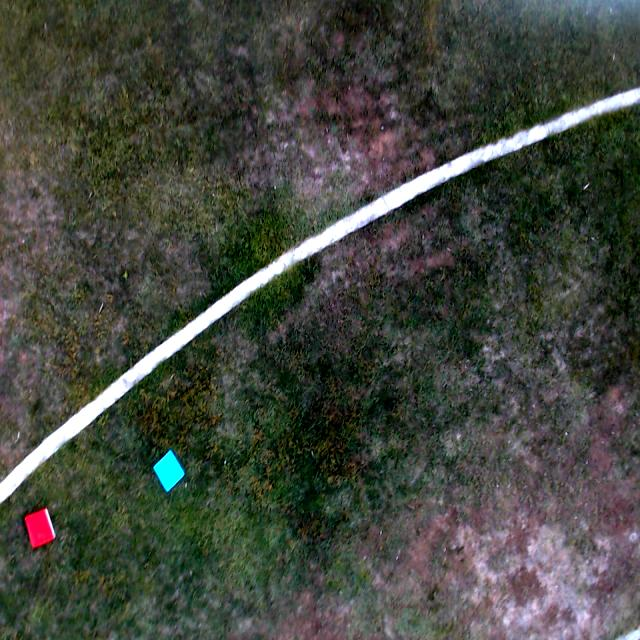blue_square: (153, 448, 185, 494)
red_square: (24, 508, 56, 551)
